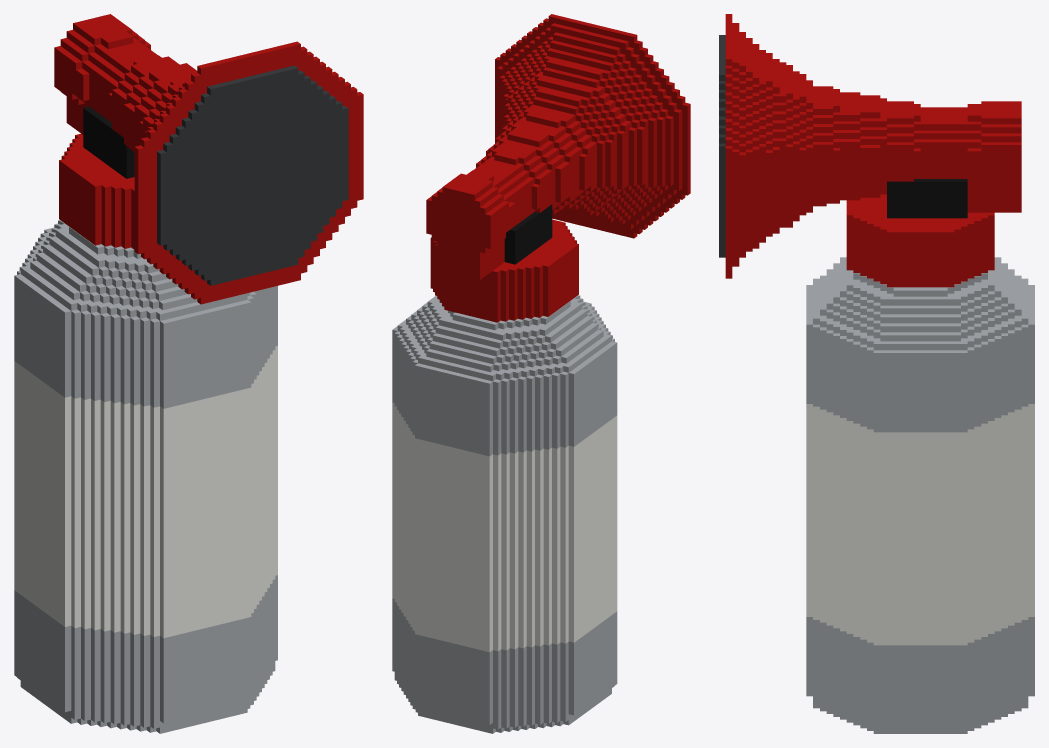
File: airhorn.glb
The picture shows the model from 3 angles, left to right: view 1: azimuth 30°, elevation 25°; view 2: azimuth 150°, elevation 25°; view 3: azimuth 270°, elevation 25°; orthographic projection. The views are drawn at different scales.
Visible parts, largest first — view 1: airhorn:compound; view 2: airhorn:compound; view 3: airhorn:compound.
Boxes of the visible parts, left/top/right/bottom form: airhorn:compound: left=14, top=14, right=363, bottom=733; airhorn:compound: left=392, top=14, right=690, bottom=733; airhorn:compound: left=719, top=14, right=1034, bottom=733.
Size of the model in its own units: 0.072 by 0.214 by 0.094.
